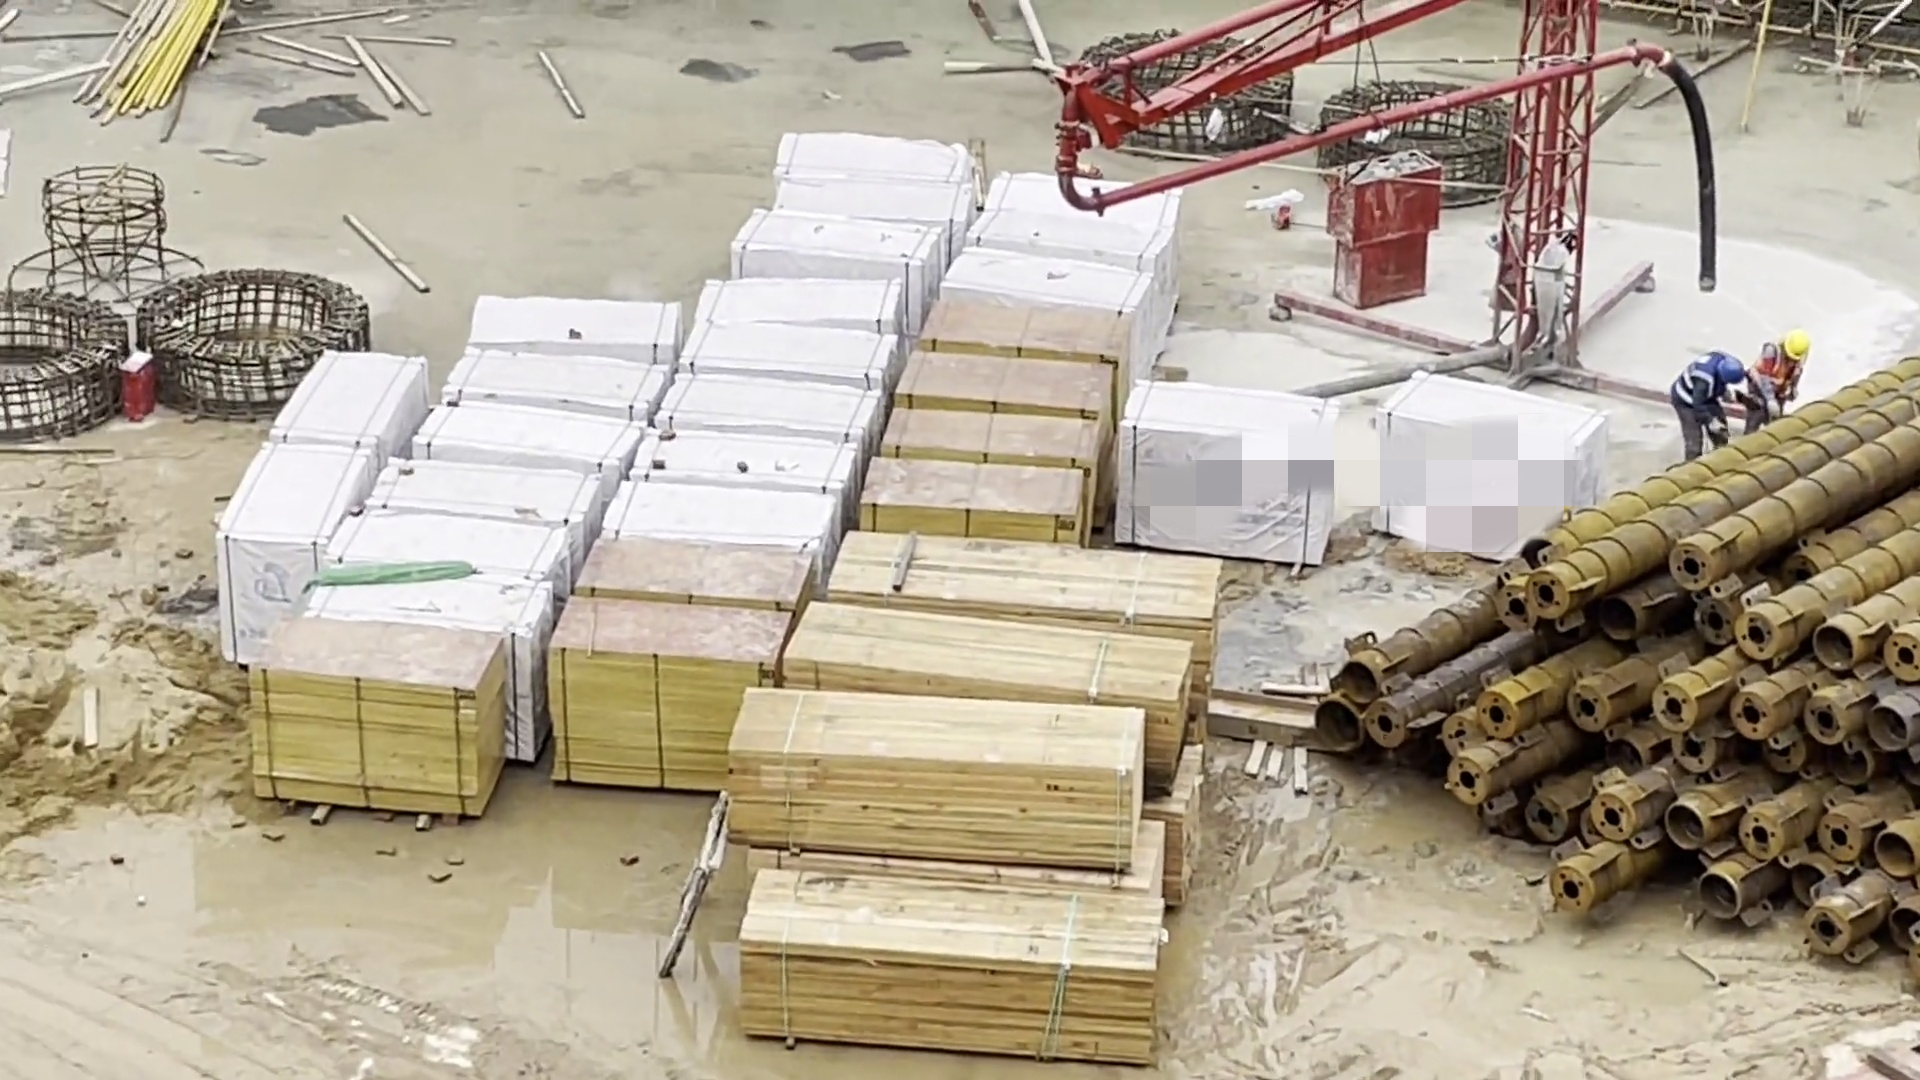helmet: (1719, 354, 1750, 389), (1783, 328, 1809, 363)
person: (1663, 339, 1743, 464), (1749, 327, 1822, 437)
vest: (1754, 341, 1805, 399), (1672, 351, 1722, 410)
wood: (730, 867, 1178, 1058), (716, 682, 1141, 872), (831, 511, 1257, 651), (237, 613, 509, 831), (788, 594, 1196, 739), (544, 599, 775, 801), (857, 457, 1099, 556), (574, 520, 803, 611), (881, 348, 1121, 434), (904, 288, 1139, 370), (888, 403, 1118, 480)
